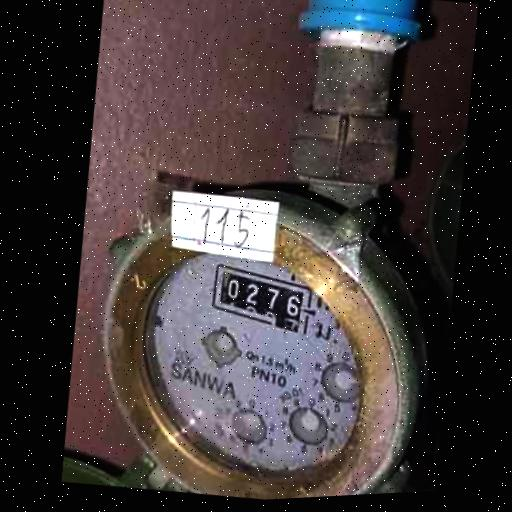0: (215, 269, 245, 308)
2: (235, 276, 266, 315)
6: (271, 285, 310, 334)
7: (256, 281, 285, 320)
border_water_meter_number: (200, 256, 322, 341)
